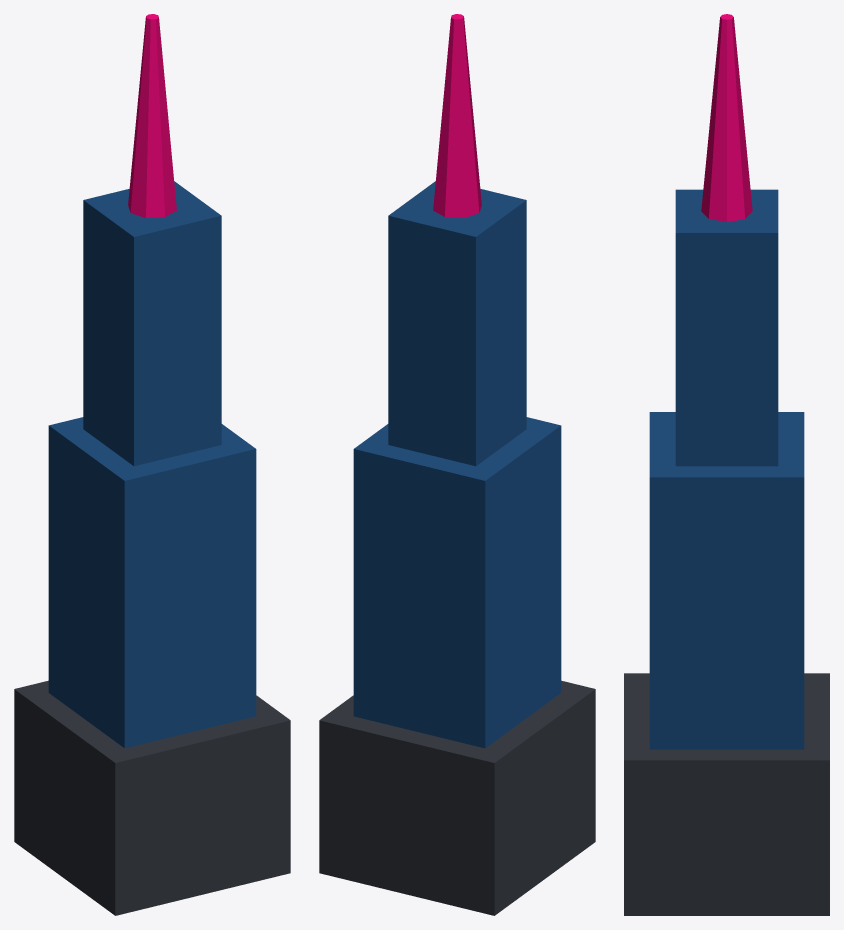
Rendered from cyberpunk_skyscraper.obj.
3 views of the same model, side by side, from view 1: azimuth 30°, elevation 25°; view 2: azimuth 150°, elevation 25°; view 3: azimuth 270°, elevation 25° (orthographic).
Visible parts, largest first — view 1: CyberpunkSkyscraper; view 2: CyberpunkSkyscraper; view 3: CyberpunkSkyscraper.
Boxes of the visible parts, x1,y1,x2,y2 form: CyberpunkSkyscraper: (14, 14, 290, 915); CyberpunkSkyscraper: (319, 14, 595, 915); CyberpunkSkyscraper: (624, 14, 829, 915).
Size of the model in its own units: 2.4 by 11 by 2.4.
